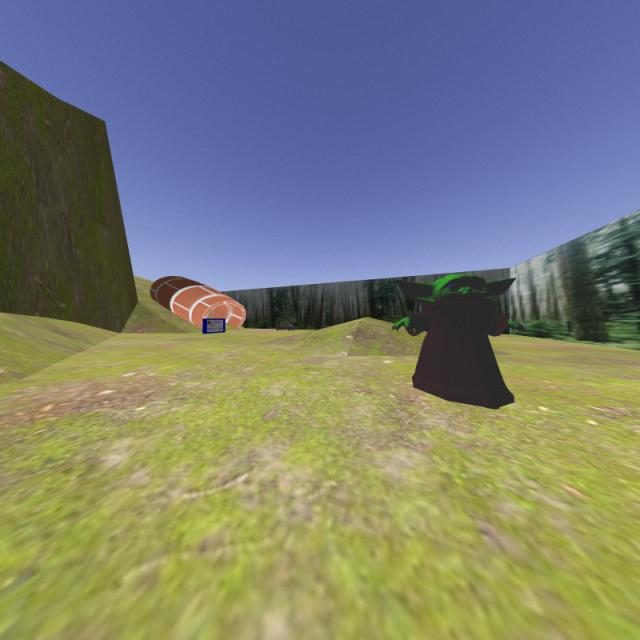yoda: (392, 268, 523, 412)
